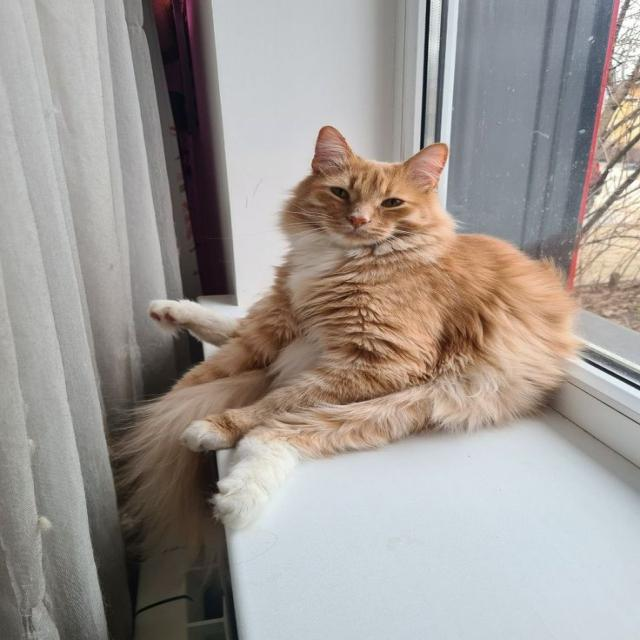sarman: (17, 80, 640, 549)
